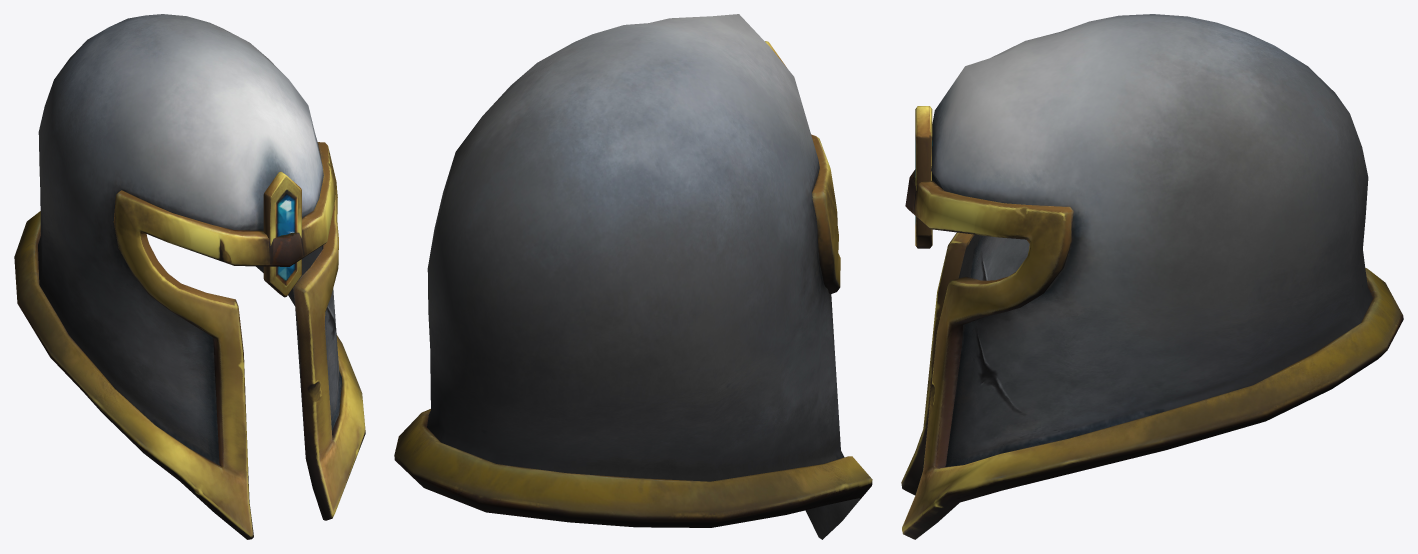
File: sm_yun_avian_helmet.gltf
The picture shows the model from 3 angles, left to right: view 1: azimuth 30°, elevation 25°; view 2: azimuth 150°, elevation 25°; view 3: azimuth 270°, elevation 25°; orthographic projection. The views are drawn at different scales.
Parts seen in each view (by area): view 1: sm_yun_avian_helmet; view 2: sm_yun_avian_helmet; view 3: sm_yun_avian_helmet.
Boxes of the visible parts, box(x1,y1,x2,y2) form: sm_yun_avian_helmet: box(14, 14, 365, 539); sm_yun_avian_helmet: box(394, 14, 872, 539); sm_yun_avian_helmet: box(901, 14, 1403, 539).
Bounding box in the file's own units: 32.06 × 50.48 × 46.54.
1 material, 1 textured.
